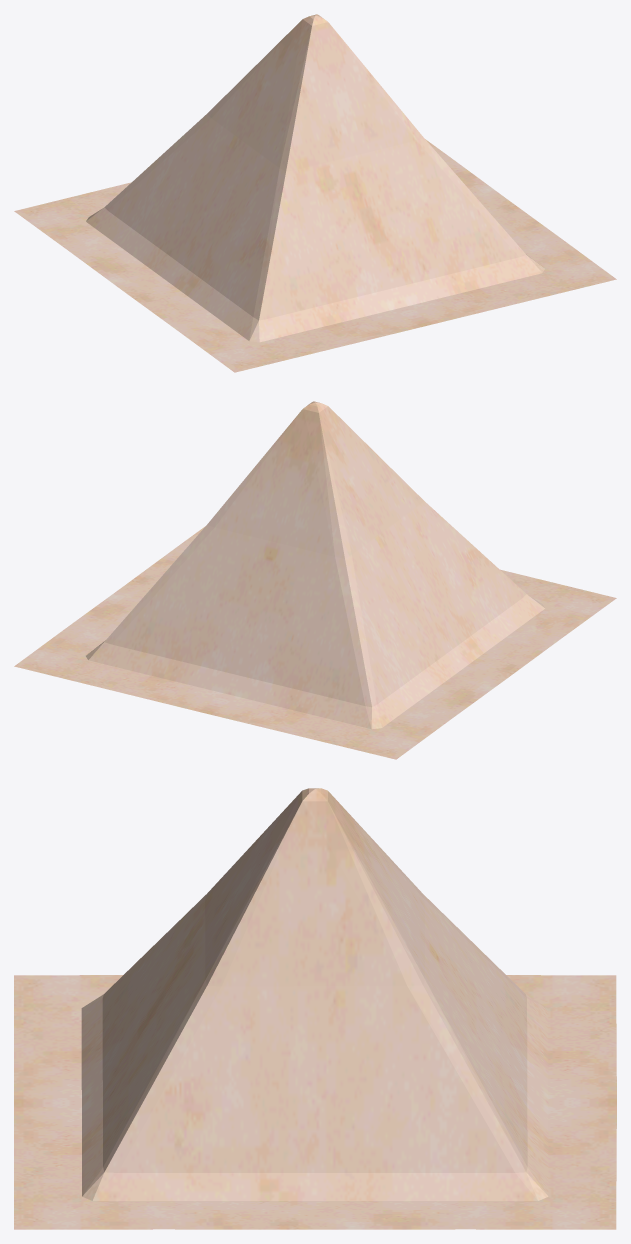
The model's file is sandbombbasepyramid.dae.
3 views of the same model, one above another, from view 1: azimuth 30°, elevation 25°; view 2: azimuth 150°, elevation 25°; view 3: azimuth 270°, elevation 25° (orthographic). The views are drawn at different scales.
Parts seen in each view (by area): view 1: m0; view 2: m0; view 3: m0.
Part boxes in pixels (bbox=[...]): m0: bbox=[14, 14, 616, 372]; m0: bbox=[14, 401, 616, 759]; m0: bbox=[14, 788, 616, 1229].
Bounding box in the file's own units: 1965 × 1129 × 1968.
1 material, 1 textured.
